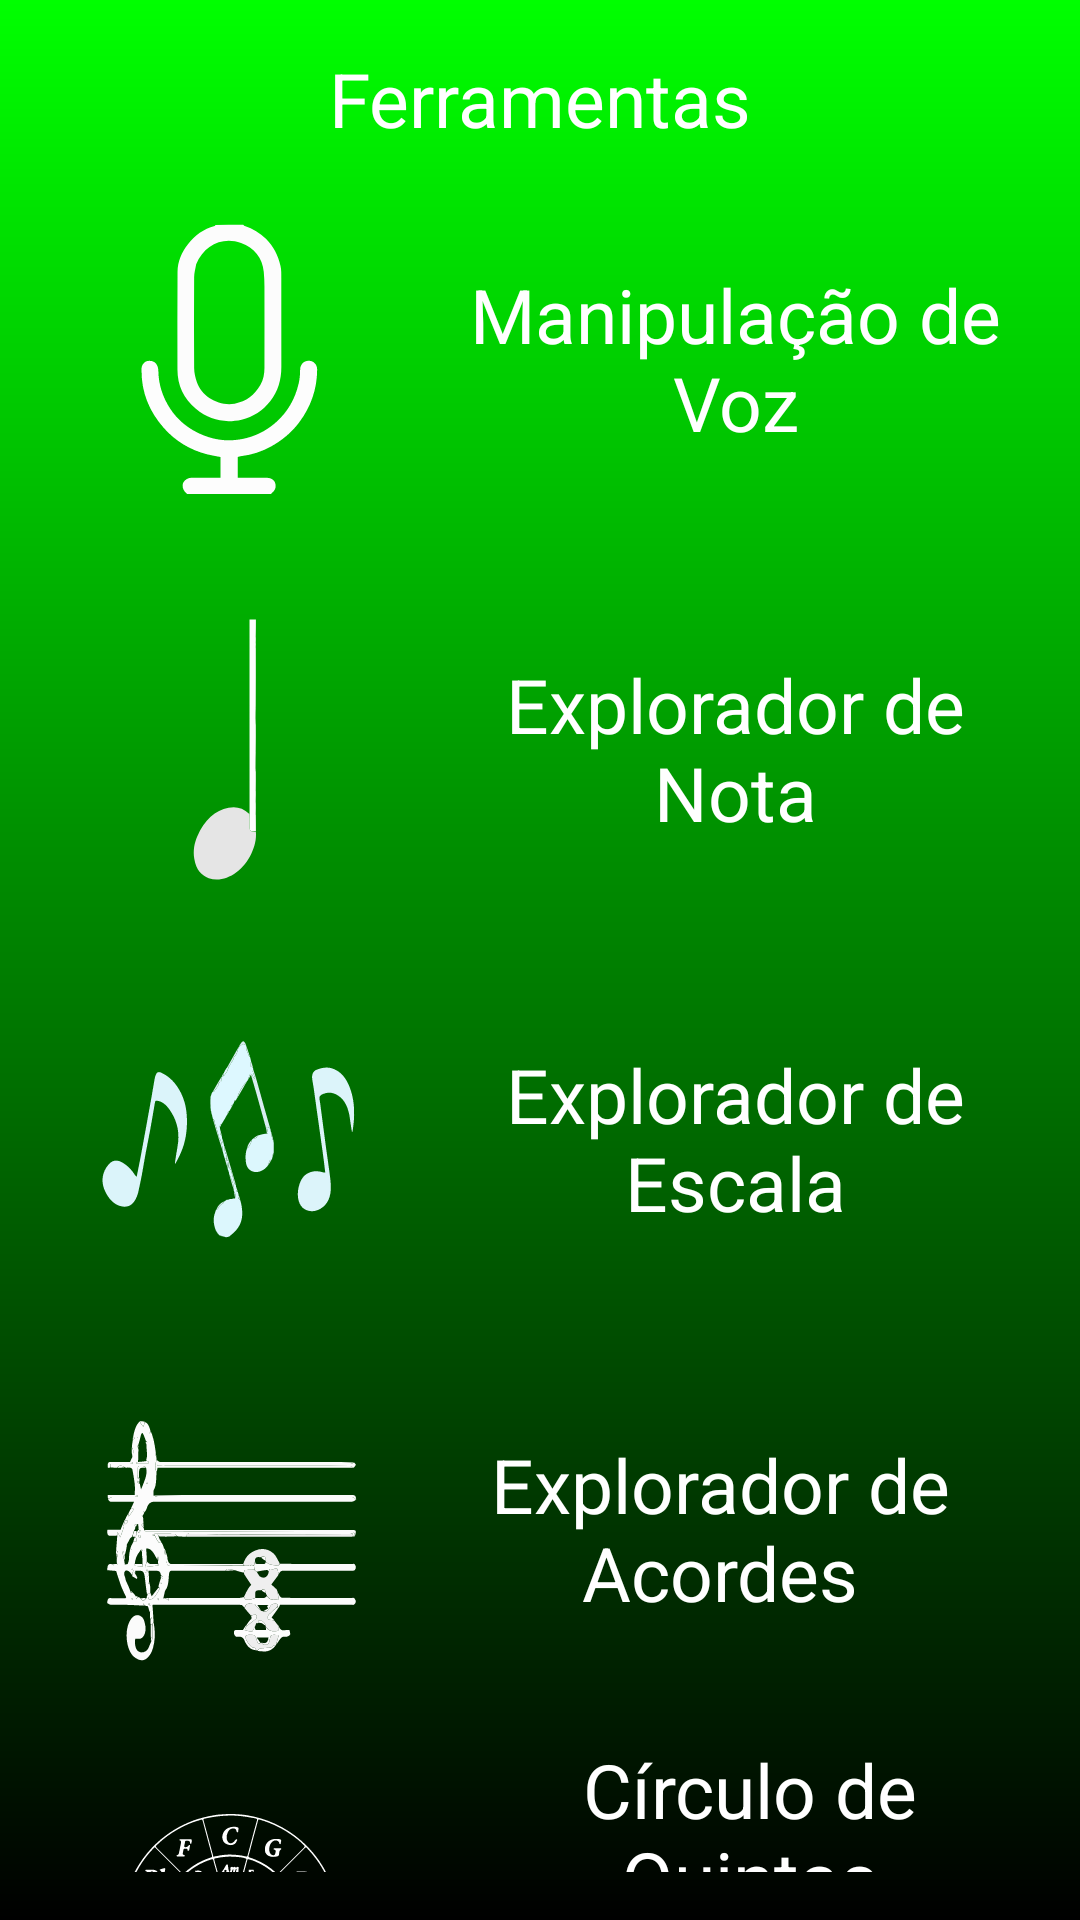

Icons on this 1080 x 1920 Android screen, each with the point to tap as point (x, y):
chordexplorer: point (228, 1529)
noteexplorer: point (228, 749)
scaleexplorer: point (228, 1139)
voicedetection: point (228, 359)
